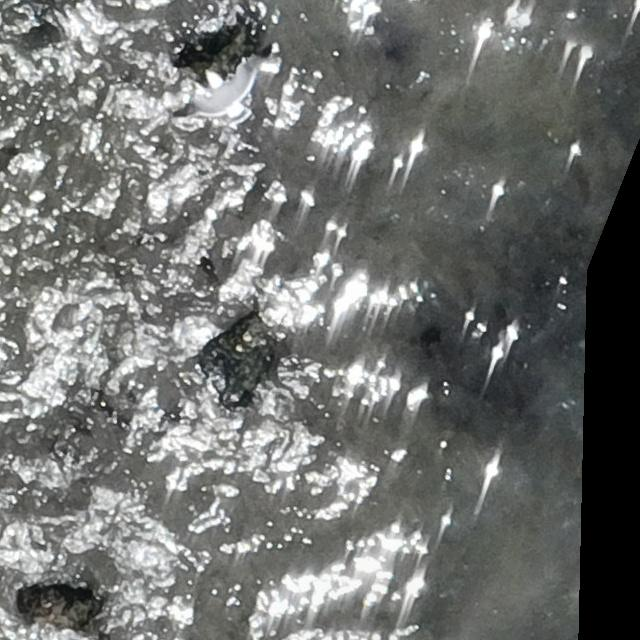F: (185, 57, 262, 121)
